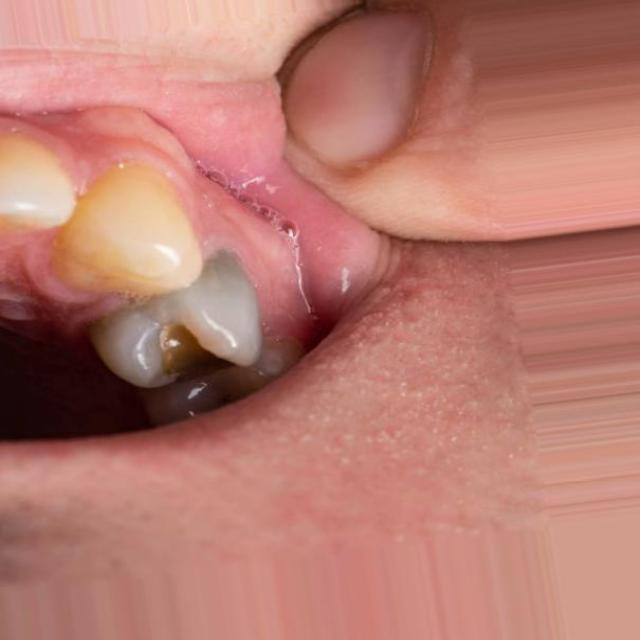caries: (136, 304, 228, 396)
